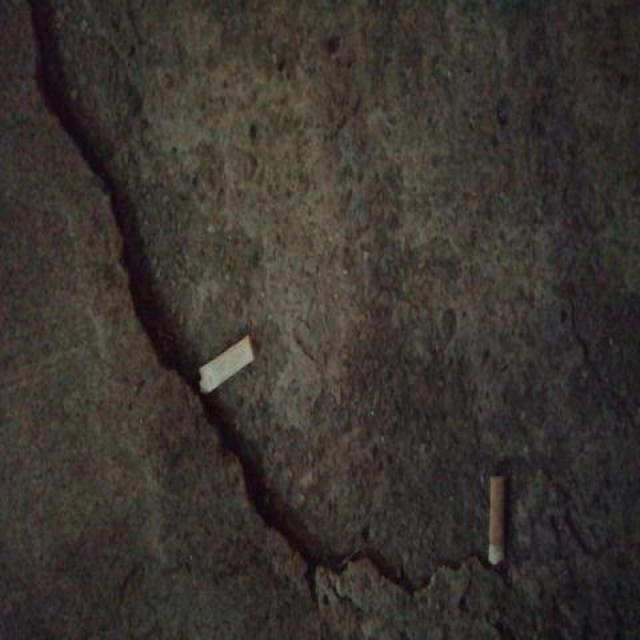non-organic waste: (196, 328, 257, 401), (484, 468, 512, 575)
